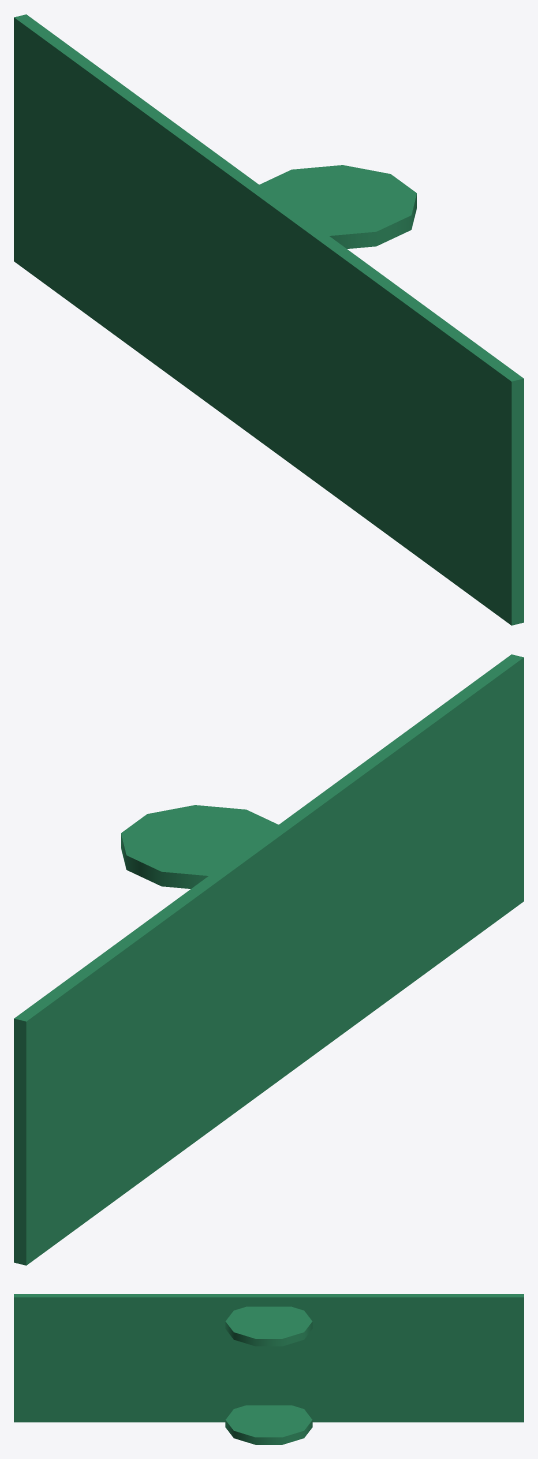
The model's file is mcp_one_way_sign_01.FBX.
3 views of the same model, one above another, from view 1: azimuth 30°, elevation 25°; view 2: azimuth 150°, elevation 25°; view 3: azimuth 270°, elevation 25° (orthographic). The views are drawn at different scales.
Visible parts, largest first — view 1: mcp_one_way_sign_01; view 2: mcp_one_way_sign_01; view 3: mcp_one_way_sign_01.
Part boxes in pixels (x1,y1,x2,y2): mcp_one_way_sign_01: (14, 14, 523, 625); mcp_one_way_sign_01: (14, 654, 523, 1265); mcp_one_way_sign_01: (14, 1294, 523, 1444).
Size of the model in its own units: 21.28 by 35.17 by 130.
